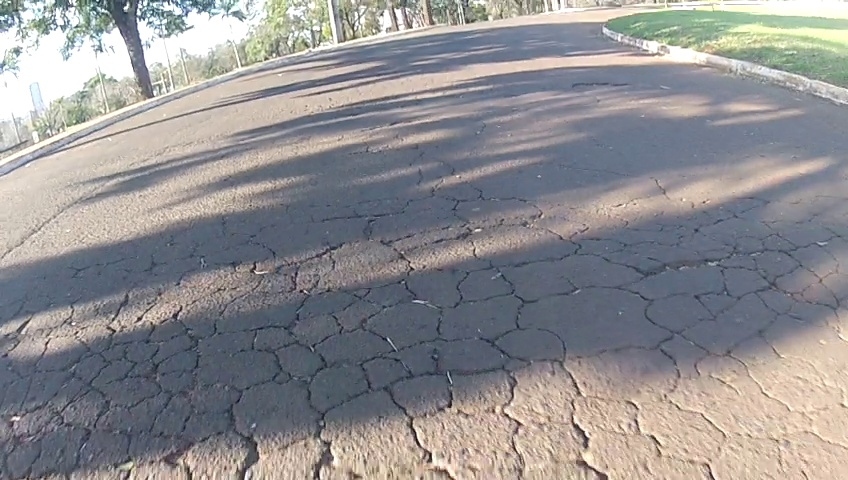trinca: (19, 255, 819, 456)
